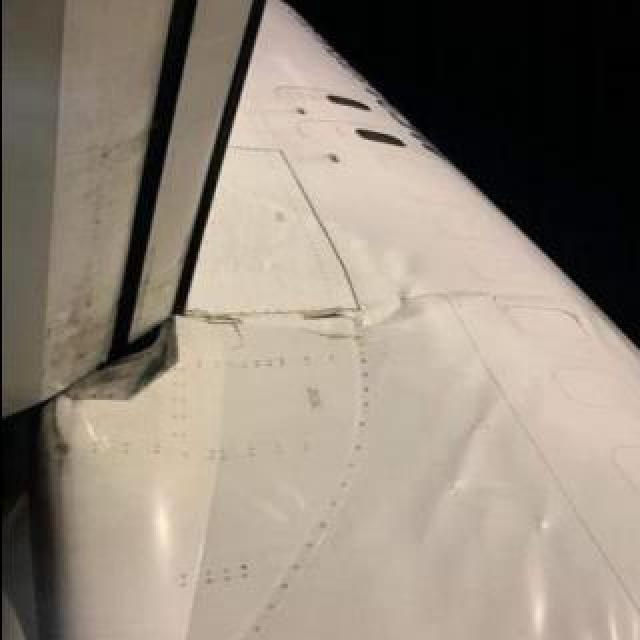dent: (420, 383, 508, 543), (169, 286, 513, 326), (519, 501, 553, 640)
